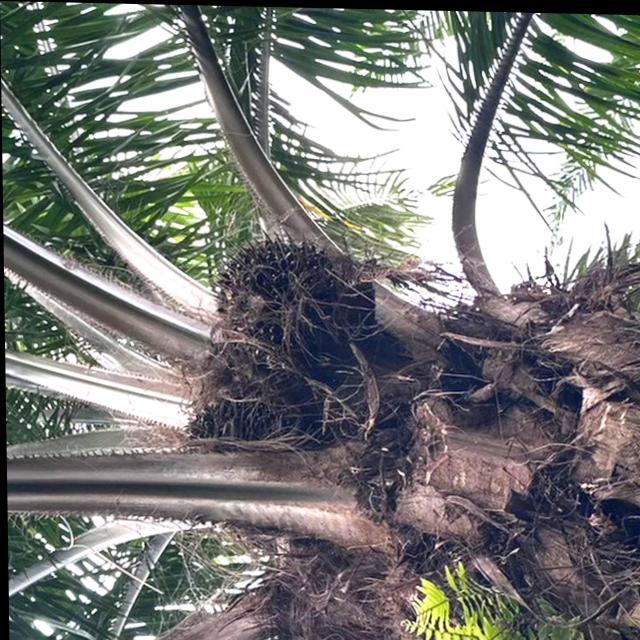almost: (212, 228, 376, 379), (186, 403, 321, 536)
